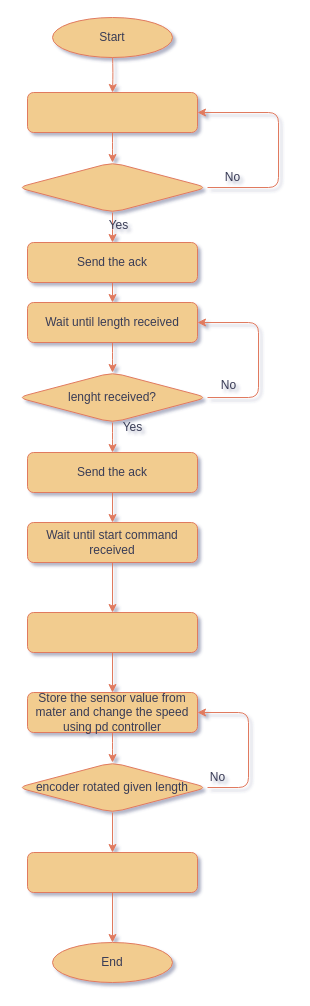
This 310x1006 diagram has some shape labels left out. The shapes that lost their labels are listed below. From the top down, each one's centre as x and y in pixels, then its label:
At [112,112]: "Wait until master sends the fabric type".
At [112,187]: "fabric type received?".
At [112,632]: "Start the rolling".
At [112,872]: "Send the end message to master".
